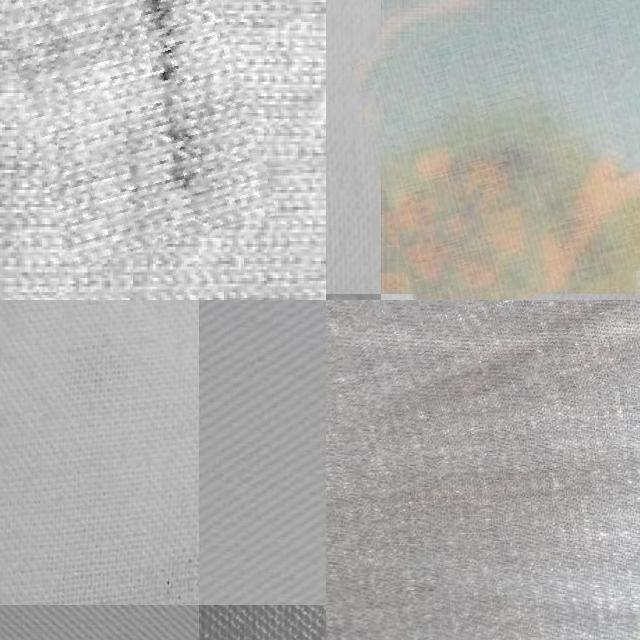Thread_other: (365, 0, 640, 300)
stains: (326, 300, 640, 419)
